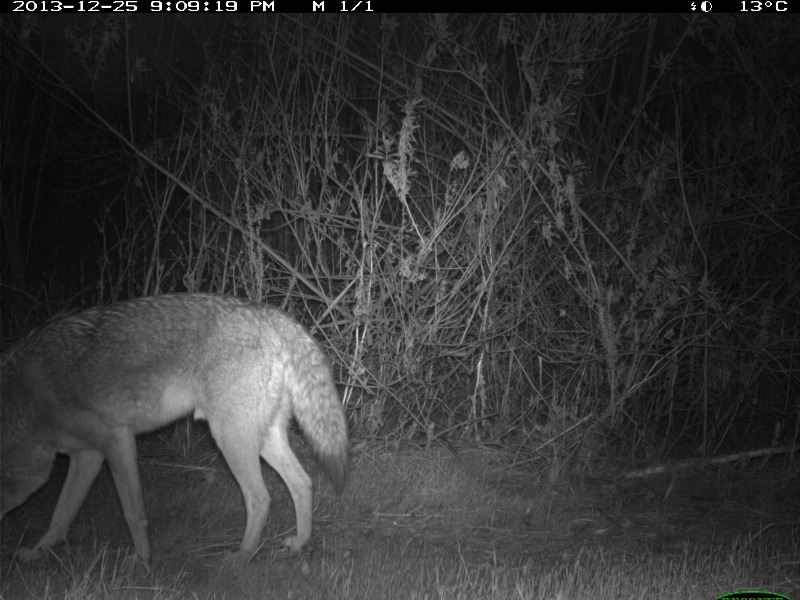coyote: (1, 291, 348, 566)
